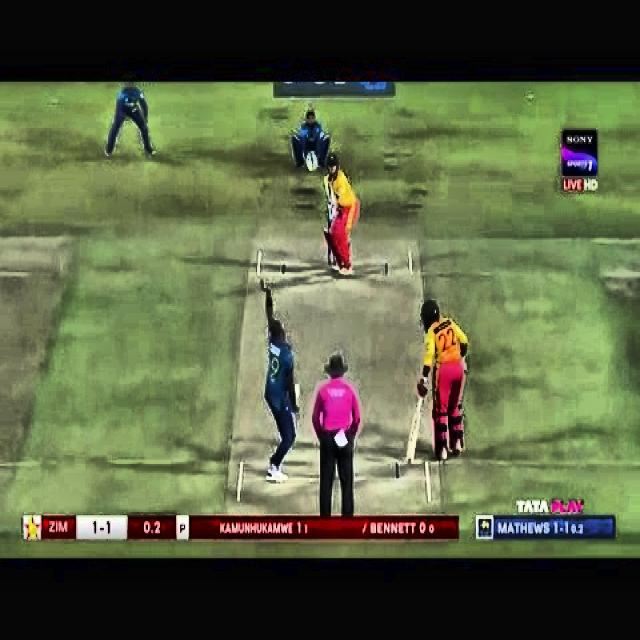Left-stump: (328, 244, 331, 266)
